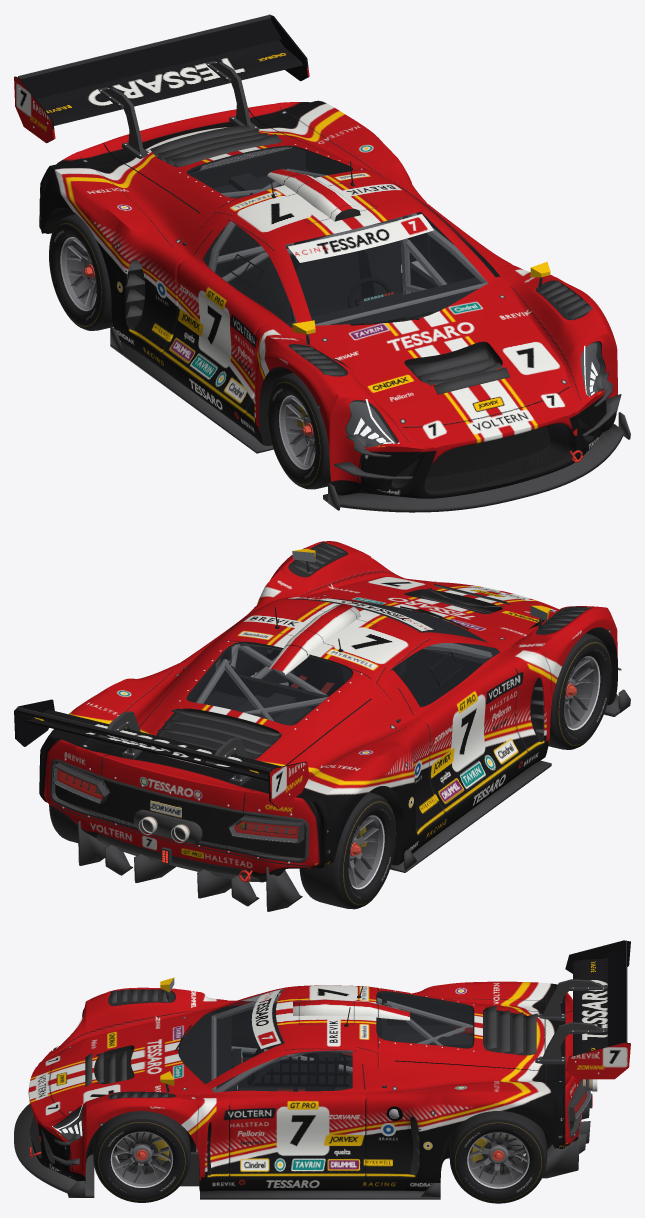
File: gtcar.glb
3 renders of one model, top to bottom at view 1: azimuth 30°, elevation 25°; view 2: azimuth 150°, elevation 25°; view 3: azimuth 270°, elevation 25°, orthographic. The views are drawn at different scales.
Visible parts, largest first — view 1: Body, Cabin, Wing, Louvres, Grille, Splitter, WheelRearRTyre, WheelFrontRTyre, SunStrip, WingMounts, Skirts, HeadlampLens (+7 smaller); view 2: Body, Cabin, Wing, TailMesh, WheelRearRTyre, Diffuser, WheelFrontRTyre, Louvres, RearLamps, RoofScoop, TailFrame, Skirts (+12 smaller); view 3: Body, Cabin, Wing, WheelRearLTyre, WheelFrontLTyre, Louvres, Skirts, Splitter, WheelRearLRim, WheelFrontLRim, WheelFrontLRimBlur, WheelRearLRimBlur (+11 smaller).
Part boxes in pixels (x1=…): Body: x1=39, y1=100, x2=617, y2=498; Cabin: x1=153, y1=148, x2=487, y2=443; Wing: x1=14, y1=14, x2=309, y2=143; Louvres: x1=150, y1=125, x2=592, y2=394; Grille: x1=360, y1=388, x2=601, y2=493; Splitter: x1=323, y1=412, x2=630, y2=512; WheelRearRTyre: x1=49, y1=214, x2=113, y2=330; WheelFrontRTyre: x1=267, y1=372, x2=331, y2=489; SunStrip: x1=288, y1=214, x2=433, y2=262; WingMounts: x1=18, y1=14, x2=270, y2=153; Skirts: x1=110, y1=273, x2=402, y2=453; HeadlampLens: x1=346, y1=342, x2=604, y2=446; Body: x1=39, y1=541, x2=617, y2=882; Cabin: x1=183, y1=601, x2=499, y2=749; Wing: x1=14, y1=699, x2=309, y2=808; TailMesh: x1=55, y1=762, x2=306, y2=858; WheelRearRTyre: x1=299, y1=792, x2=396, y2=909; Diffuser: x1=78, y1=821, x2=302, y2=911; WheelFrontRTyre: x1=548, y1=633, x2=611, y2=749; Louvres: x1=157, y1=542, x2=592, y2=754; RearLamps: x1=52, y1=763, x2=305, y2=843; RoofScoop: x1=268, y1=603, x2=360, y2=675; TailFrame: x1=50, y1=759, x2=309, y2=862; Skirts: x1=390, y1=760, x2=551, y2=872; Body: x1=28, y1=981, x2=582, y2=1191; Cabin: x1=160, y1=992, x2=472, y2=1186; Wing: x1=565, y1=940, x2=630, y2=1079; WheelRearLTyre: x1=449, y1=1111, x2=547, y2=1203; WheelFrontLTyre: x1=93, y1=1111, x2=190, y2=1202; Louvres: x1=85, y1=989, x2=536, y2=1099; Skirts: x1=200, y1=1183, x2=440, y2=1199; Splitter: x1=14, y1=1103, x2=94, y2=1197; WheelRearLRim: x1=467, y1=1132, x2=529, y2=1188; WheelFrontLRim: x1=110, y1=1131, x2=173, y2=1187; WheelFrontLRimBlur: x1=113, y1=1132, x2=170, y2=1183; WheelRearLRimBlur: x1=469, y1=1133, x2=526, y2=1184.
Bounding box in the file's own units: 2.21 × 1.36 × 4.85.
Materials: 36 (8 with a texture image).
